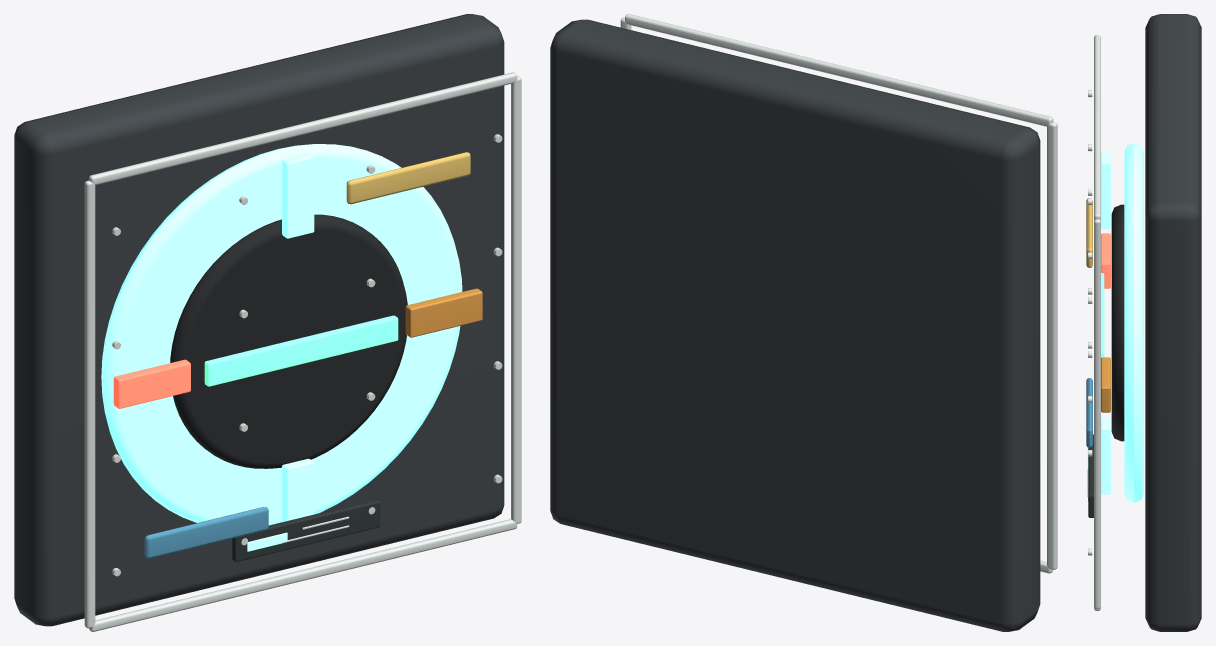
Rendered from hp_terminal_direction_ring.glb.
3 renders of one model, left to right at view 1: azimuth 30°, elevation 25°; view 2: azimuth 150°, elevation 25°; view 3: azimuth 270°, elevation 25°, orthographic. The views are drawn at different scales.
Visible parts, largest first — view 1: terminal_direction_ring_backplate, terminal_direction_ring_outer_ring, terminal_direction_ring_inner_dark, terminal_direction_ring_panel_trim_trim_left, terminal_direction_ring_center_clue_bar, terminal_direction_ring_panel_trim_trim_top, terminal_direction_ring_panel_trim_trim_bottom, terminal_direction_ring_panel_trim_trim_right, terminal_direction_ring_nav_label_label_plate_body, terminal_direction_ring_direction_gold_arc_hint_art_color_bl, terminal_direction_ring_direction_blue_arc_hint_art_color_bl, terminal_direction_ring_north_tick (+3 smaller); view 2: terminal_direction_ring_backplate, terminal_direction_ring_panel_trim_trim_top, terminal_direction_ring_panel_trim_trim_left; view 3: terminal_direction_ring_backplate, terminal_direction_ring_outer_ring, terminal_direction_ring_inner_dark, terminal_direction_ring_panel_trim_trim_right, terminal_direction_ring_panel_trim_trim_top, terminal_direction_ring_north_tick, terminal_direction_ring_south_tick, terminal_direction_ring_east_tick, terminal_direction_ring_west_tick, terminal_direction_ring_direction_blue_arc_hint_art_color_bl, terminal_direction_ring_direction_gold_arc_hint_art_color_bl, terminal_direction_ring_nav_label_label_plate_body (+1 smaller).
Part boxes in pixels (left/top/right/bottom): terminal_direction_ring_backplate: left=14, top=14, right=504, bottom=626; terminal_direction_ring_outer_ring: left=101, top=144, right=462, bottom=525; terminal_direction_ring_inner_dark: left=170, top=214, right=407, bottom=468; terminal_direction_ring_panel_trim_trim_left: left=84, top=180, right=95, bottom=628; terminal_direction_ring_center_clue_bar: left=204, top=315, right=398, bottom=386; terminal_direction_ring_panel_trim_trim_top: left=89, top=72, right=517, bottom=185; terminal_direction_ring_panel_trim_trim_bottom: left=89, top=519, right=517, bottom=631; terminal_direction_ring_panel_trim_trim_right: left=511, top=76, right=521, bottom=523; terminal_direction_ring_nav_label_label_plate_body: left=232, top=499, right=380, bottom=561; terminal_direction_ring_direction_gold_arc_hint_art_color_bl: left=346, top=152, right=470, bottom=204; terminal_direction_ring_direction_blue_arc_hint_art_color_bl: left=144, top=507, right=268, bottom=558; terminal_direction_ring_north_tick: left=282, top=153, right=314, bottom=238; terminal_direction_ring_backplate: left=550, top=19, right=1040, bottom=631; terminal_direction_ring_panel_trim_trim_top: left=625, top=14, right=1053, bottom=126; terminal_direction_ring_panel_trim_trim_left: left=1047, top=122, right=1057, bottom=569; terminal_direction_ring_backplate: left=1145, top=14, right=1201, bottom=631; terminal_direction_ring_outer_ring: left=1124, top=143, right=1143, bottom=502; terminal_direction_ring_inner_dark: left=1111, top=204, right=1124, bottom=441; terminal_direction_ring_panel_trim_trim_right: left=1094, top=219, right=1100, bottom=608; terminal_direction_ring_panel_trim_trim_top: left=1094, top=35, right=1100, bottom=219; terminal_direction_ring_north_tick: left=1101, top=151, right=1110, bottom=228; terminal_direction_ring_south_tick: left=1101, top=417, right=1110, bottom=494; terminal_direction_ring_east_tick: left=1101, top=357, right=1110, bottom=412; terminal_direction_ring_west_tick: left=1101, top=233, right=1110, bottom=288; terminal_direction_ring_direction_blue_arc_hint_art_color_bl: left=1086, top=378, right=1092, bottom=447; terminal_direction_ring_direction_gold_arc_hint_art_color_bl: left=1086, top=198, right=1092, bottom=267; terminal_direction_ring_nav_label_label_plate_body: left=1088, top=434, right=1093, bottom=517.
Size of the model in its own units: 0.84 by 0.84 by 0.205.
